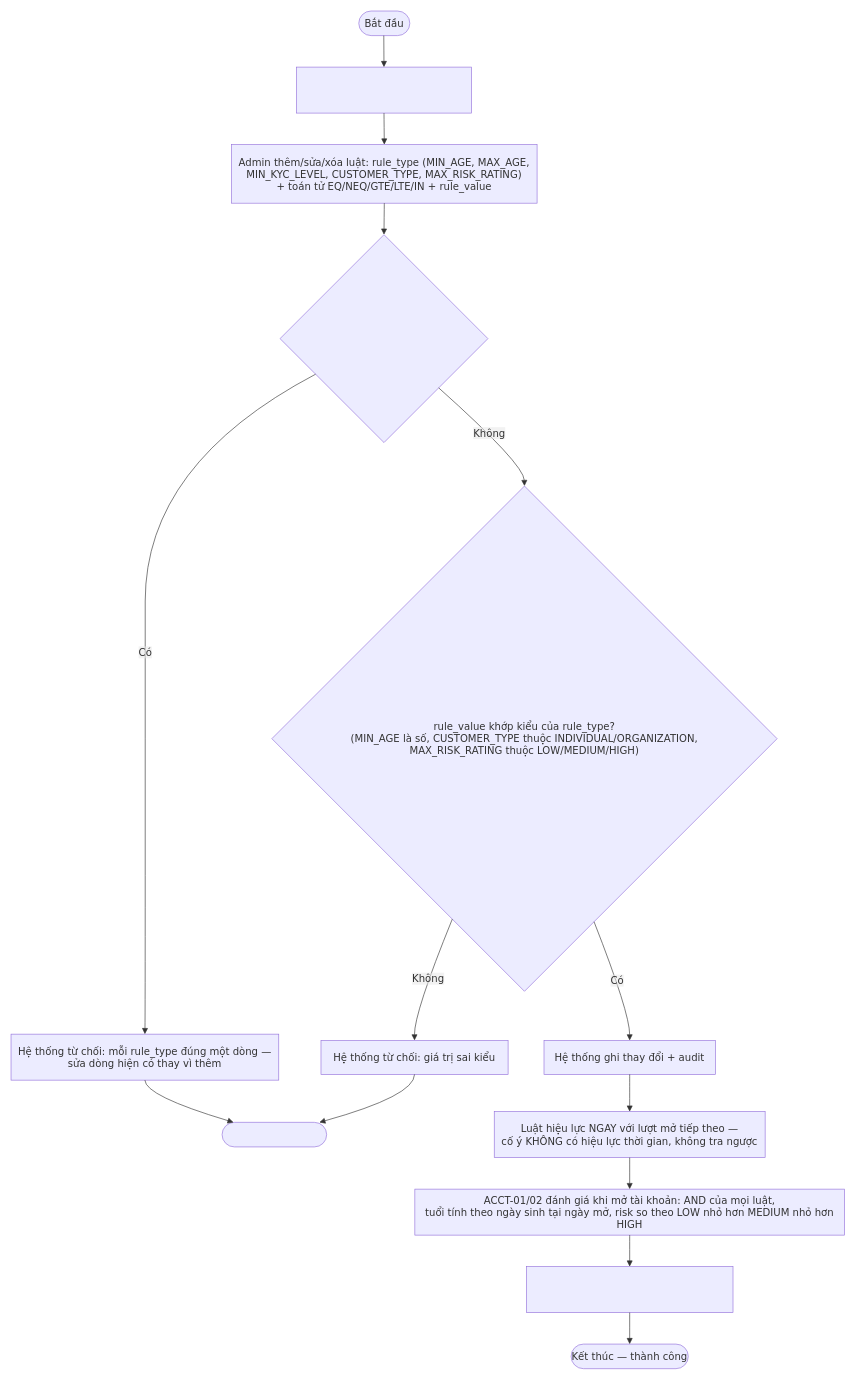
The diagram is 856 pixels wide and 1380 high, and some of its shapes have lost their labels. Here are the shapes that lost their labels. From the top down, the centre of each, then its label:
At (x=384, y=89): "Admin chọn sản phẩm, xem bộ luật eligibility hiện có".
At (x=383, y=338): "Thêm mới nhưng rule_type đã có dòng? (uq_rule)".
At (x=274, y=1134): "Kết thúc — thất bại".
At (x=629, y=1289): "Tài khoản đã mở không bị ảnh hưởng khi luật đổi (BR-PROD-05-2)".
